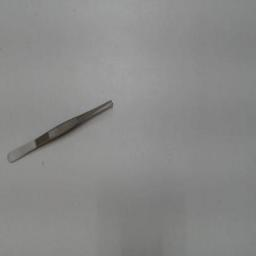Gillies Toothed Dissector: (6, 93, 118, 169)
